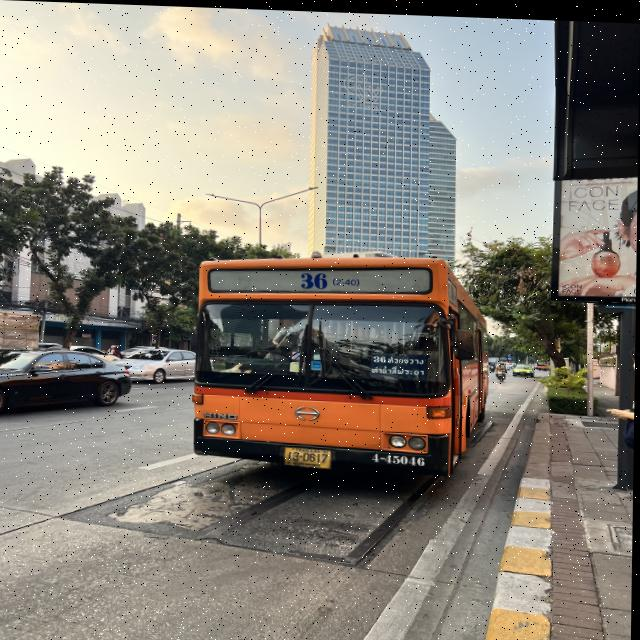BMTA-bus: (192, 253, 489, 473)
Bus Line Number: (288, 264, 370, 291)
Bus Side Number: (368, 448, 431, 465)
Destination Sign: (369, 350, 431, 378)
